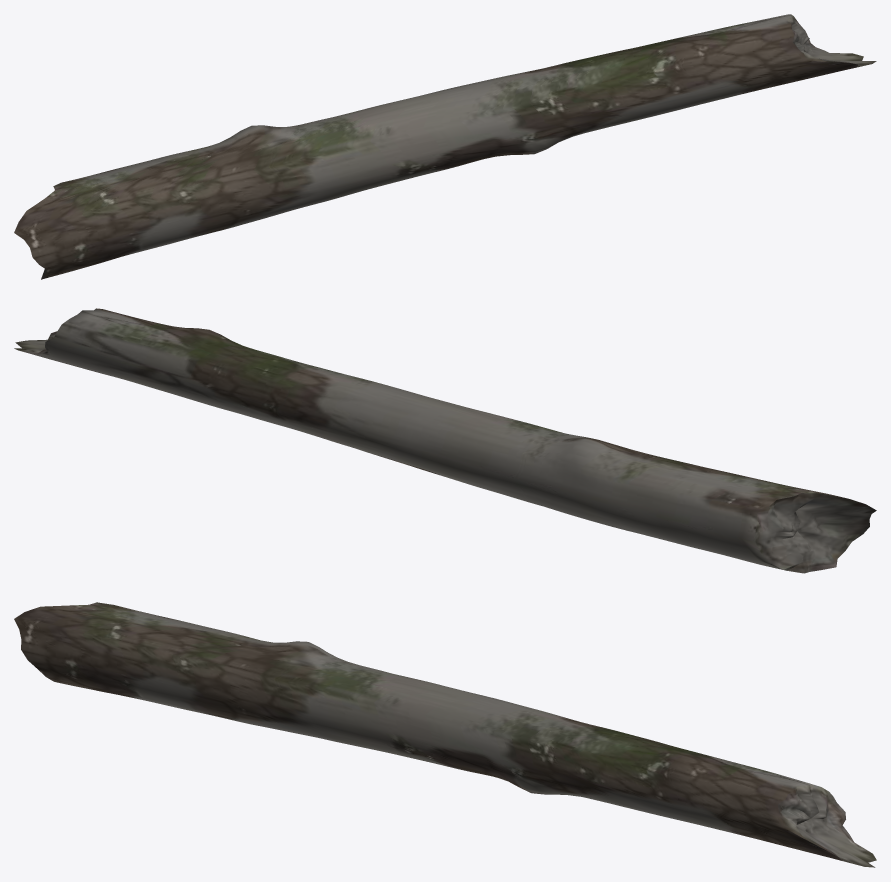
File: log_a.glb
3 views of the same model, one above another, from view 1: azimuth 30°, elevation 25°; view 2: azimuth 150°, elevation 25°; view 3: azimuth 330°, elevation 25° (orthographic).
Parts seen in each view (by area): view 1: log_a; view 2: log_a; view 3: log_a.
Boxes of the visible parts, x1,y1,x2,y2 form: log_a: [14, 14, 876, 279]; log_a: [14, 308, 876, 573]; log_a: [14, 602, 876, 867].
Size of the model in its own units: 3.22 by 0.3028 by 0.3098.
Materials: 1 (1 with a texture image).
